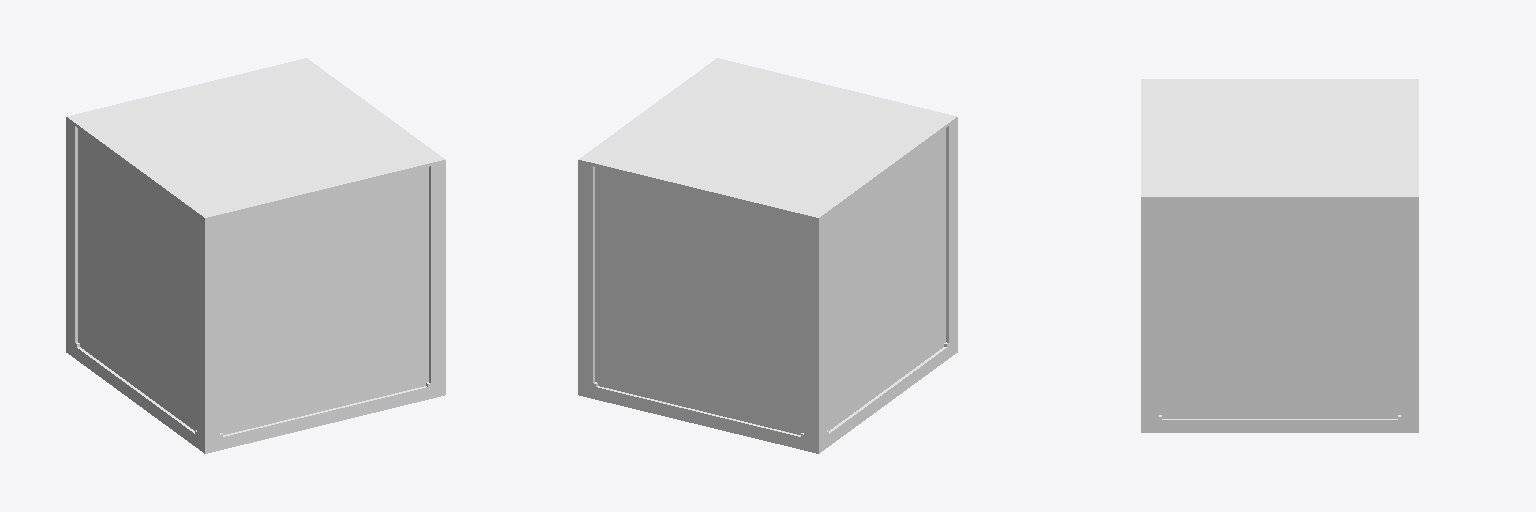
Rendered from Imprimante-0-MasqueSocle.obj.
3 renders of one model, left to right at view 1: azimuth 30°, elevation 25°; view 2: azimuth 150°, elevation 25°; view 3: azimuth 270°, elevation 25°, orthographic.
Parts seen in each view (by area): view 1: MasqueSocle; view 2: MasqueSocle; view 3: MasqueSocle.
Boxes of the visible parts, <box> form: MasqueSocle: <box>66,58,445,453</box>; MasqueSocle: <box>578,58,957,453</box>; MasqueSocle: <box>1141,79,1418,432</box>.
Size of the model in its own units: 8 by 7.5 by 8.